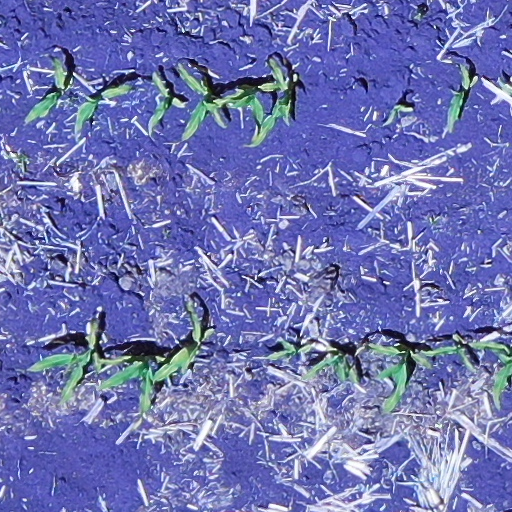planta: (31, 320, 103, 403), (149, 301, 213, 383), (362, 343, 433, 413), (95, 354, 154, 416), (179, 66, 227, 139), (251, 58, 290, 145), (26, 60, 75, 120), (75, 82, 132, 130), (298, 343, 361, 385), (206, 86, 265, 129), (149, 74, 185, 128), (447, 66, 477, 130), (421, 335, 475, 370), (268, 340, 315, 359)
